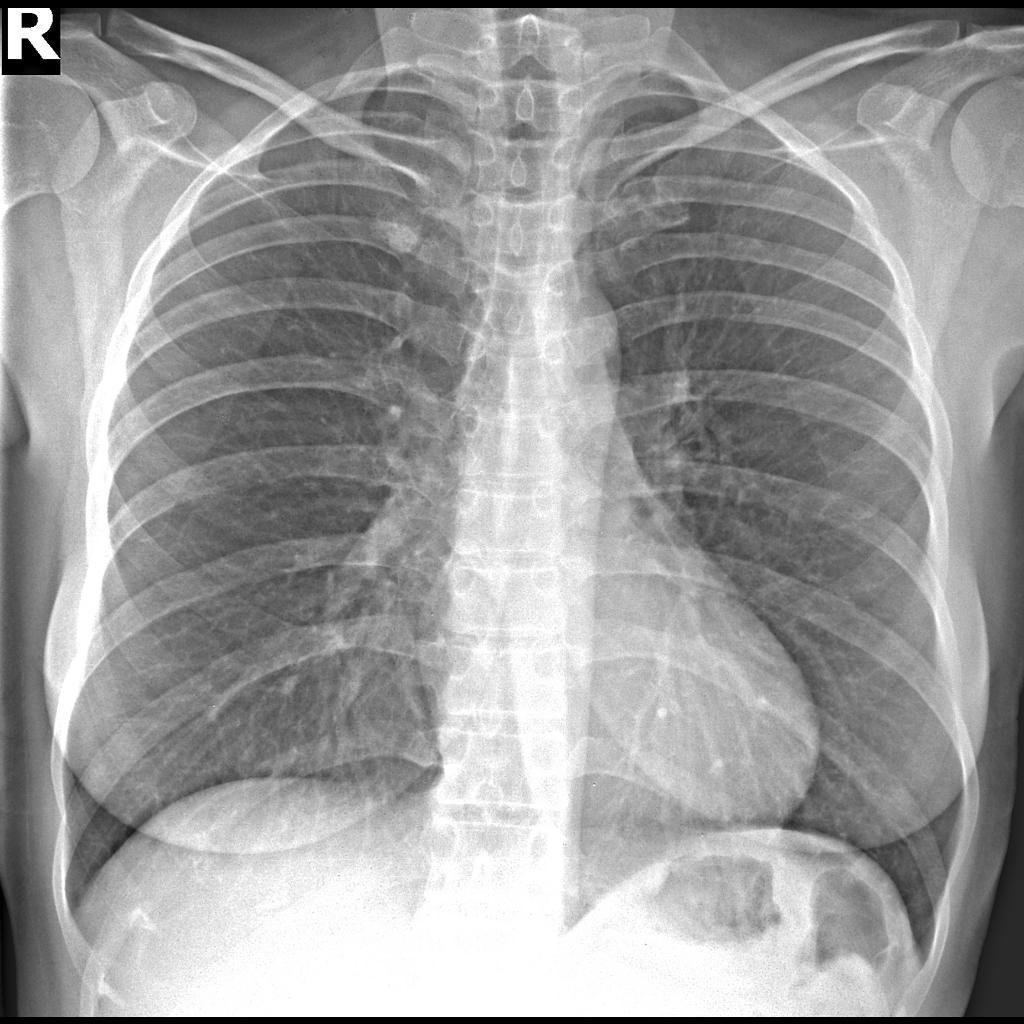Nodule: (367, 208, 435, 267)
